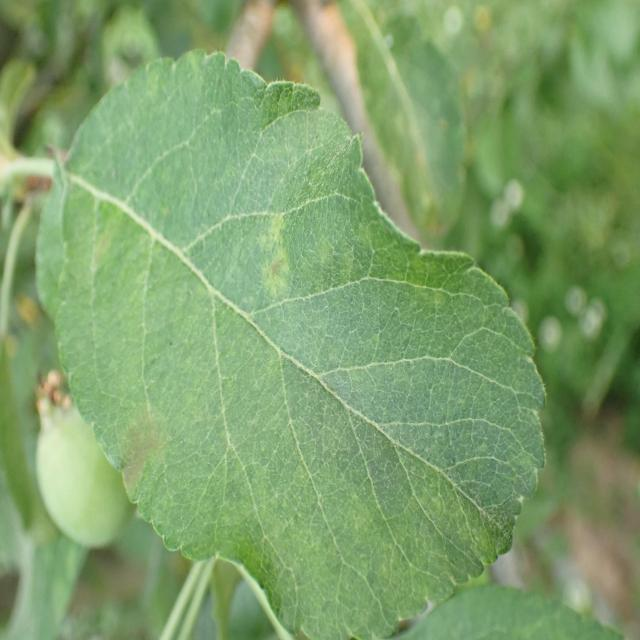scab: (48, 118, 522, 575)
